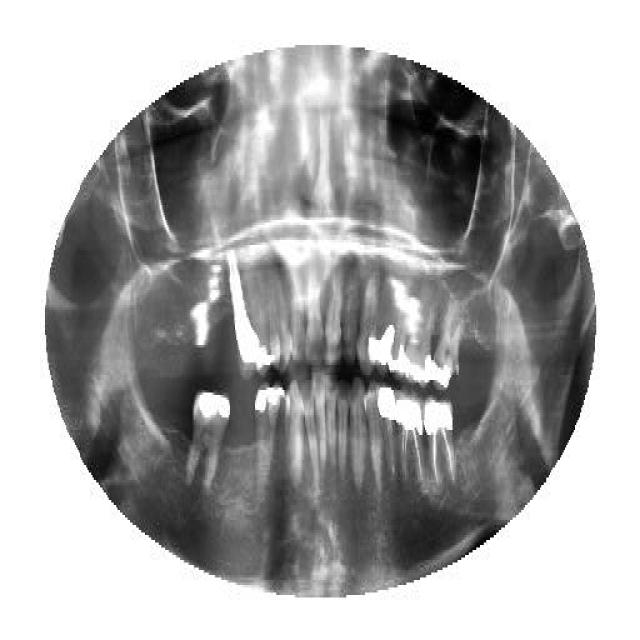Fillings: (185, 390, 229, 492), (254, 380, 285, 505), (364, 378, 396, 488), (405, 282, 435, 382), (432, 298, 462, 392), (358, 273, 378, 375), (389, 278, 406, 380), (379, 265, 395, 370)
Implant: (226, 247, 260, 375), (421, 395, 455, 485), (396, 392, 426, 490)
